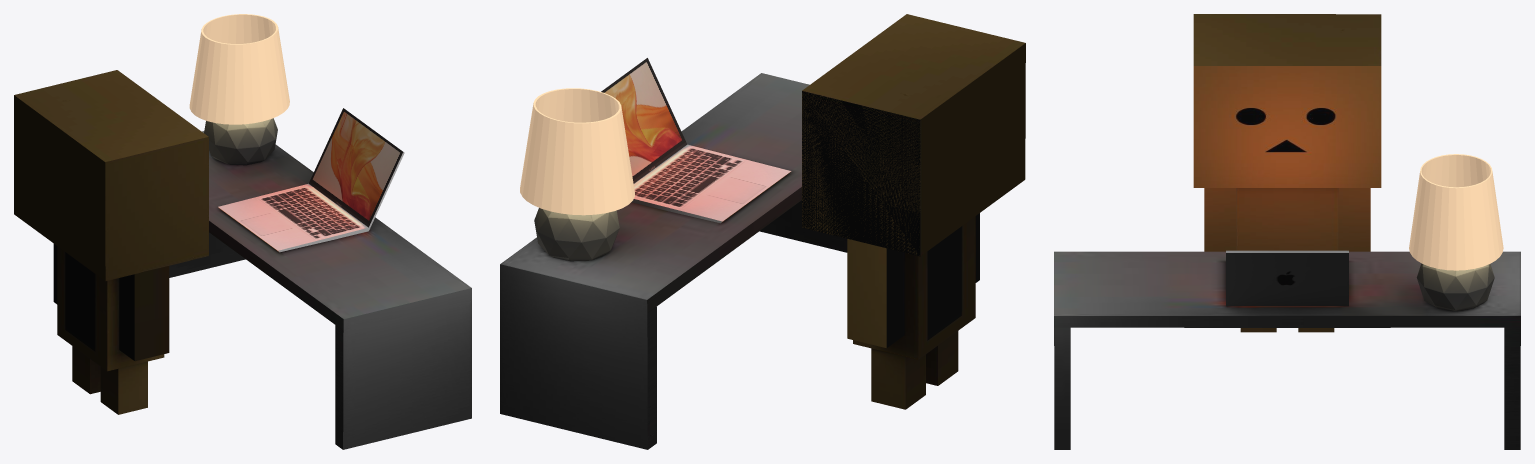
File: banbooru.gltf
3 renders of one model, left to right at view 1: azimuth 30°, elevation 25°; view 2: azimuth 150°, elevation 25°; view 3: azimuth 270°, elevation 25°, orthographic. The views are drawn at different scales.
Visible parts, largest first — view 1: Danbooru, Tisch, Macbook, Lampenschirm, Lampenfuß; view 2: Danbooru, Tisch, Macbook, Lampenschirm, Lampenfuß; view 3: Danbooru, Tisch, Lampenschirm, Macbook, Lampenfuß.
Part boxes in pixels (left/top/right/bottom): Danbooru: left=14, top=70, right=208, bottom=414; Tisch: left=169, top=131, right=471, bottom=449; Macbook: left=218, top=108, right=404, bottom=252; Lampenschirm: left=189, top=14, right=289, bottom=124; Lampenfuß: left=204, top=118, right=277, bottom=165; Danbooru: left=802, top=14, right=1025, bottom=409; Tisch: left=500, top=73, right=847, bottom=449; Macbook: left=601, top=58, right=791, bottom=223; Lampenschirm: left=520, top=88, right=634, bottom=215; Lampenfuß: left=534, top=208, right=619, bottom=261; Danbooru: left=1193, top=14, right=1381, bottom=332; Tisch: left=1054, top=251, right=1520, bottom=449; Lampenschirm: left=1409, top=154, right=1503, bottom=270; Macbook: left=1226, top=250, right=1348, bottom=306; Lampenfuß: left=1416, top=263, right=1494, bottom=310.
Size of the model in its own units: 5.53 by 4.69 by 6.92.
5 materials, 4 textured.
